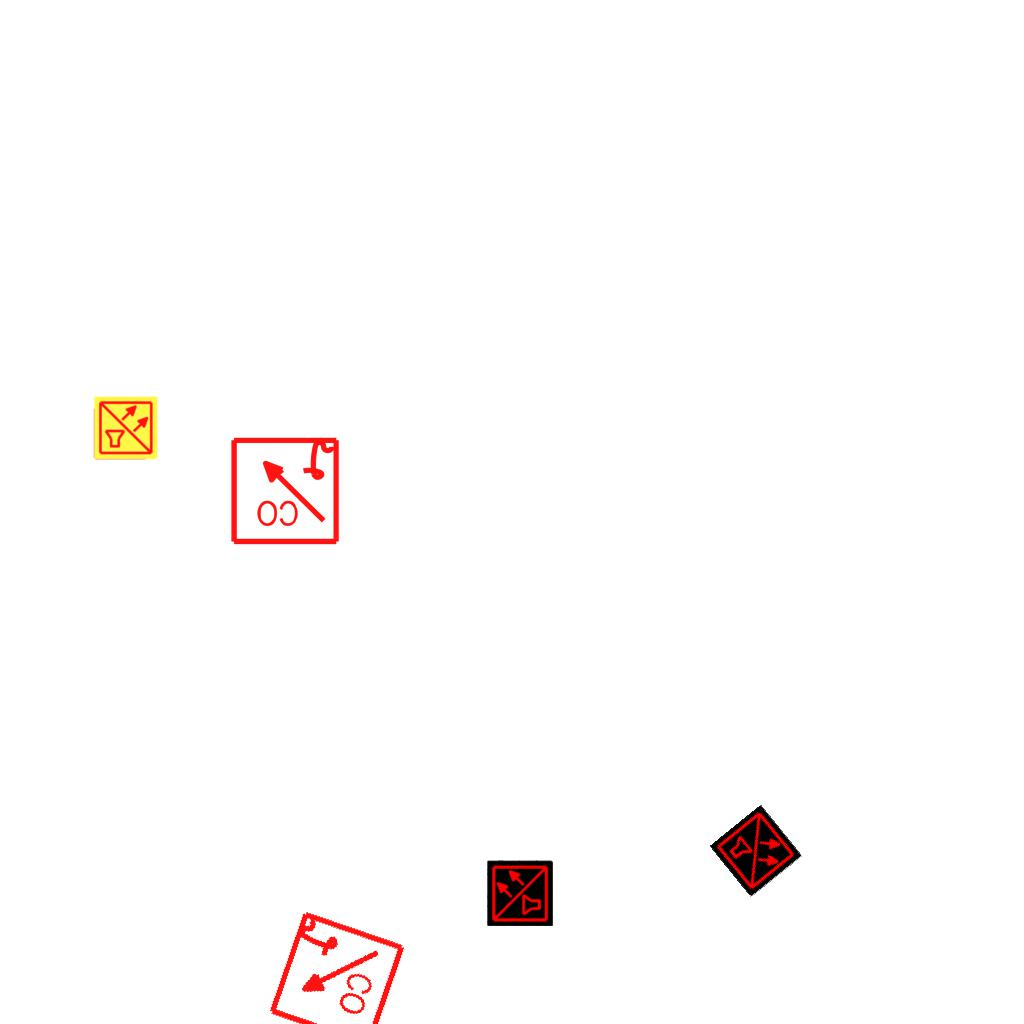OKW_Multisensormelder_(Kombination_optischer_Rauch-Kahlenmonoxid_Waerme-Melder): (709, 804, 803, 898), (487, 860, 553, 926), (93, 395, 159, 461)
ROA_Rauchmelder_optisch_mit_Signalgeber_(Sockelsirene): (263, 907, 408, 1024), (228, 433, 341, 546)
